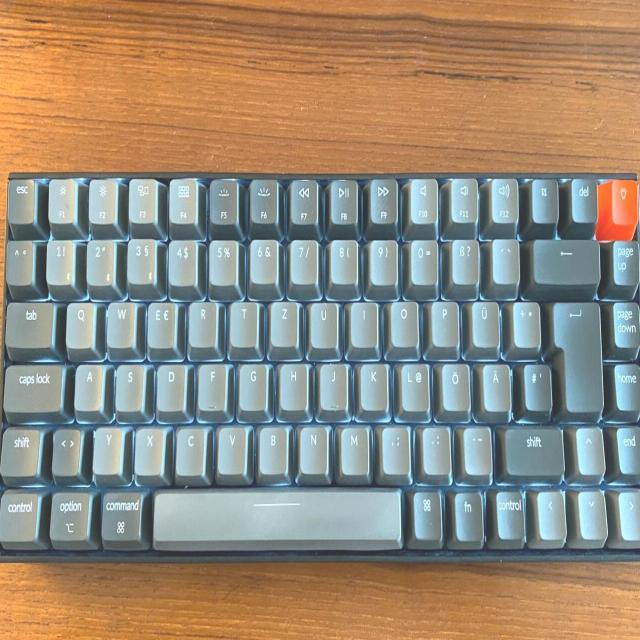0: (408, 236, 437, 284)
1: (44, 236, 73, 284)
2: (84, 236, 114, 285)
3: (125, 234, 155, 283)
4: (167, 236, 196, 285)
5: (208, 236, 238, 284)
6: (248, 235, 278, 282)
7: (289, 235, 318, 283)
8: (328, 235, 357, 283)
9: (367, 236, 397, 284)
a: (73, 359, 102, 410)
accent: (490, 235, 519, 282)
ae: (480, 359, 510, 410)
alt-left: (48, 489, 92, 545)
b: (257, 422, 287, 472)
c: (173, 422, 204, 474)
caret: (5, 236, 32, 284)
comma: (379, 421, 409, 472)
d: (155, 359, 185, 410)
del: (531, 235, 600, 284)
e: (145, 298, 175, 347)
enter: (550, 298, 603, 413)
f: (196, 359, 226, 409)
g: (237, 359, 266, 408)
h: (277, 359, 306, 408)
hash: (521, 358, 550, 409)
i: (348, 297, 377, 345)
j: (317, 359, 346, 408)
k: (358, 358, 387, 409)
keyboard: (0, 167, 640, 569)
l: (398, 359, 428, 410)
less: (50, 424, 80, 474)
m: (338, 421, 368, 474)
minus: (460, 423, 491, 472)
n: (297, 422, 327, 471)
o: (388, 297, 418, 346)
oe: (439, 359, 469, 409)
p: (429, 297, 459, 345)
plus: (511, 297, 540, 346)
point: (420, 423, 450, 472)
q: (64, 298, 93, 347)
r: (187, 298, 216, 346)
s: (113, 360, 143, 410)
shift-left: (0, 424, 39, 476)
shift-lock: (2, 359, 62, 411)
shift-right: (503, 422, 564, 475)
space: (148, 483, 403, 548)
ss: (449, 235, 478, 283)
strg-left: (0, 487, 39, 542)
strg-right: (494, 486, 524, 539)
t: (229, 298, 258, 346)
tab: (4, 297, 53, 346)
u: (308, 298, 337, 347)
ue: (470, 297, 499, 346)
v: (215, 421, 246, 472)
w: (105, 297, 135, 346)
x: (133, 423, 163, 474)
y: (91, 423, 121, 473)
z: (269, 297, 298, 345)
